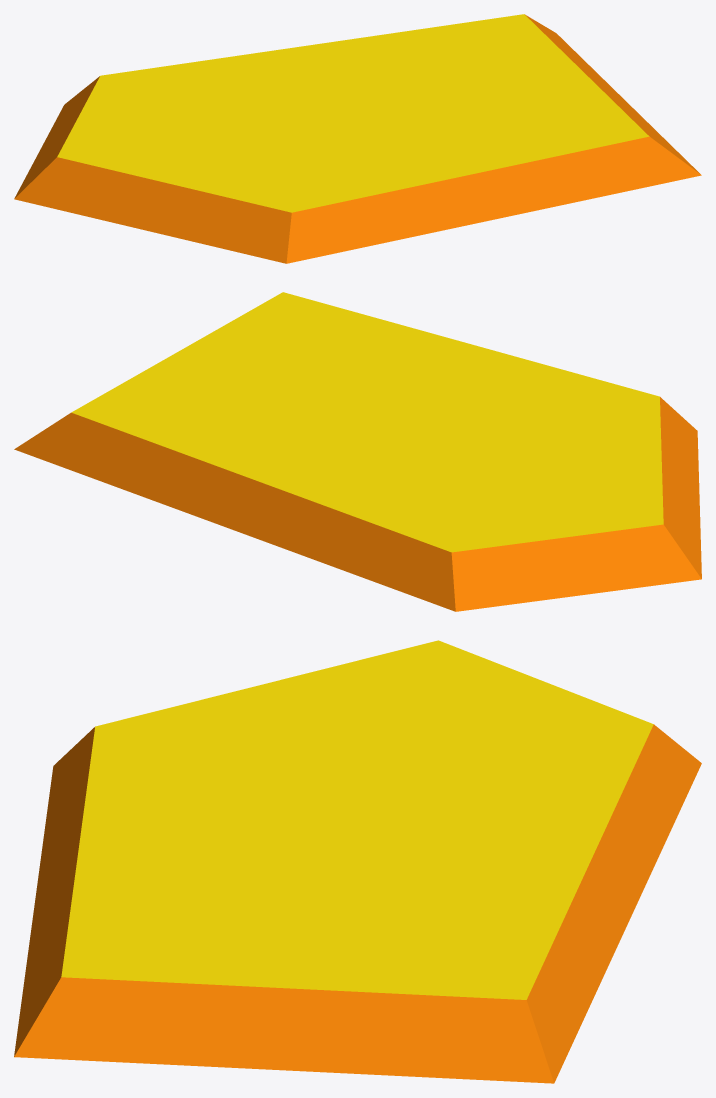
The model's file is RockFlat2.fbx.
3 renders of one model, top to bottom at view 1: azimuth 30°, elevation 25°; view 2: azimuth 150°, elevation 25°; view 3: azimuth 270°, elevation 25°, orthographic. The views are drawn at different scales.
Visible parts, largest first — view 1: RockFlat2; view 2: RockFlat2; view 3: RockFlat2.
Part boxes in pixels (<box>): RockFlat2: <box>14,14,701,263</box>; RockFlat2: <box>14,292,701,611</box>; RockFlat2: <box>14,640,701,1083</box>.
Bounding box in the file's own units: 3.05 × 2.12 × 0.182.
